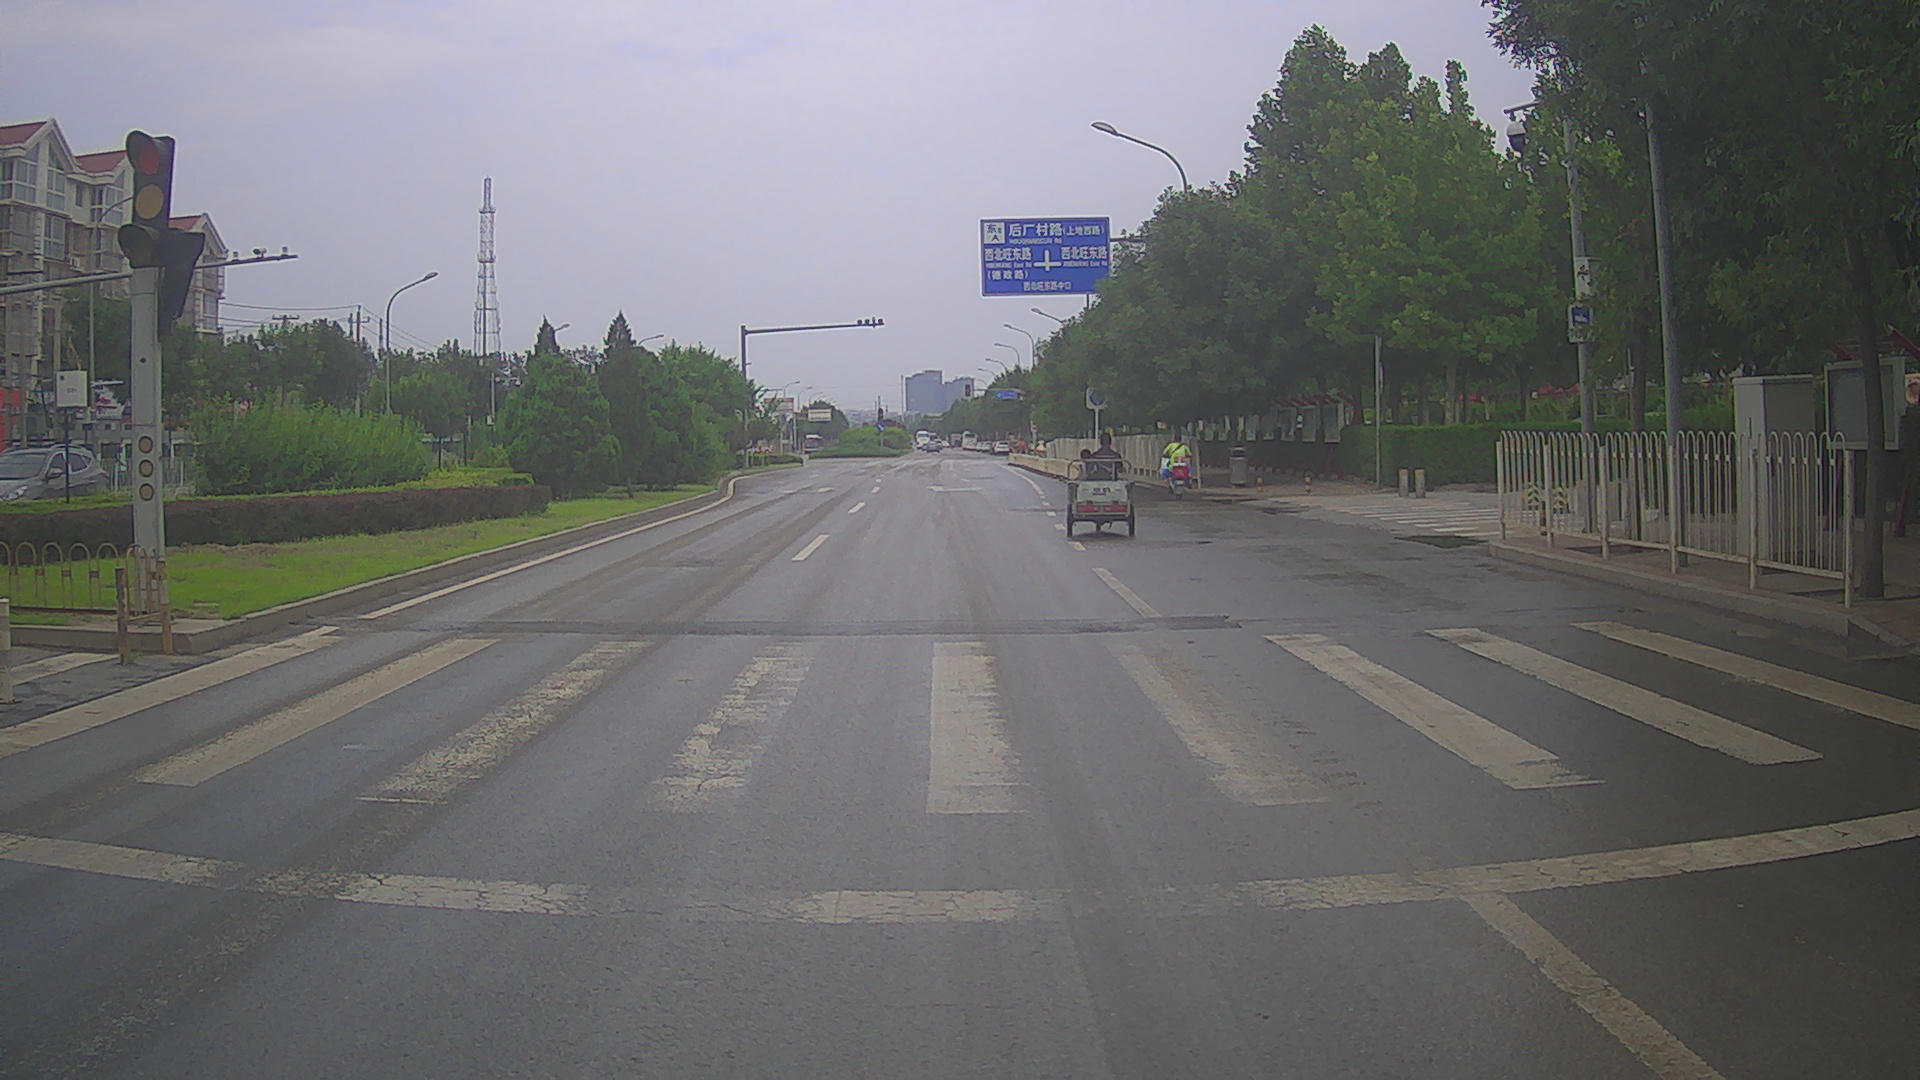bus: (803, 433, 825, 455), (962, 430, 978, 450), (915, 430, 929, 449)
car: (0, 442, 115, 529), (994, 441, 1011, 455), (926, 440, 940, 454)
ignore: (929, 432, 961, 447), (974, 439, 995, 452), (746, 444, 769, 454)
motorcyclist: (1162, 434, 1193, 499)
pedestrian: (1894, 382, 1918, 543), (1015, 437, 1027, 462), (1036, 436, 1048, 460), (1028, 441, 1035, 461)
tricyclelist: (1065, 431, 1135, 538)
